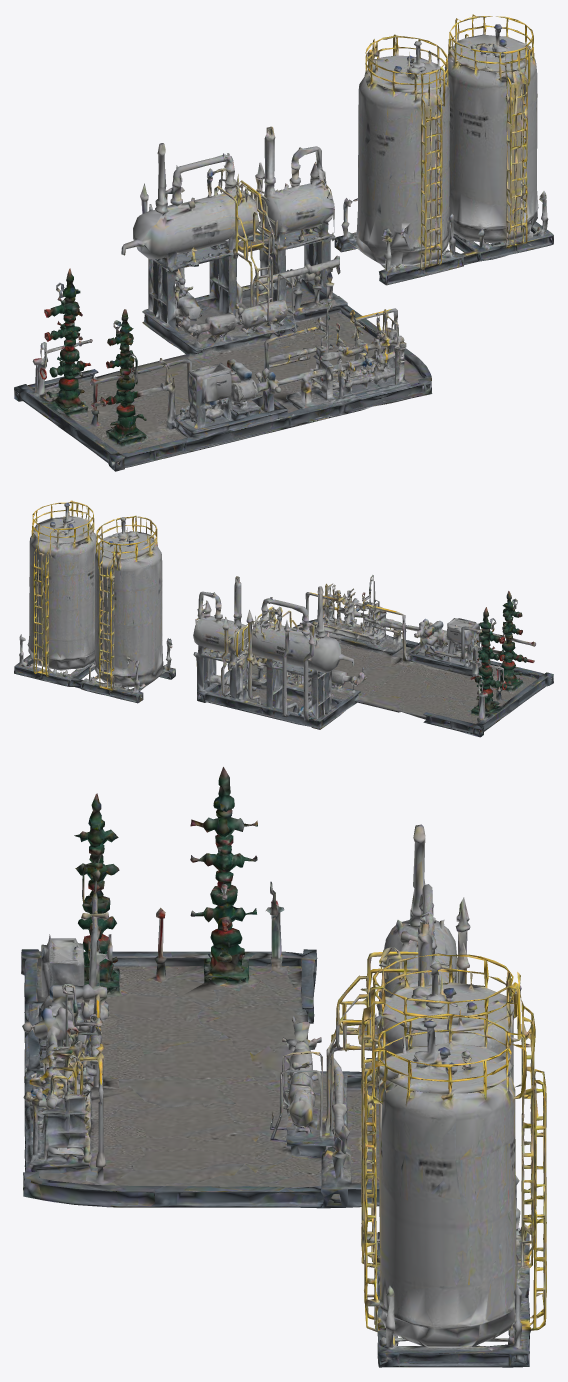
File: utica_gas_well_pad.glb
3 views of the same model, one above another, from view 1: azimuth 30°, elevation 25°; view 2: azimuth 150°, elevation 25°; view 3: azimuth 270°, elevation 25° (orthographic). The views are drawn at different scales.
Bounding box in the file's own units: 1.89 × 0.7027 × 1.03.
Materials: 1 (1 with a texture image).
